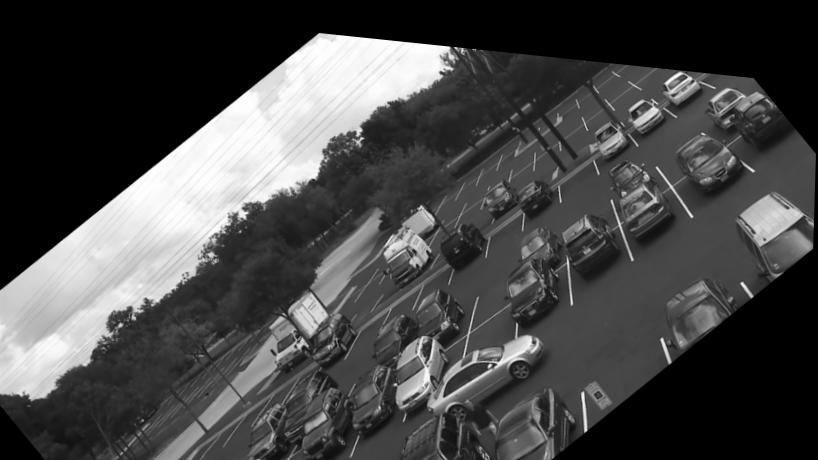empty: (581, 300, 664, 417), (457, 293, 511, 374), (198, 410, 246, 455), (648, 107, 696, 150), (558, 144, 601, 192), (349, 305, 387, 348), (231, 396, 267, 438), (384, 277, 422, 315), (490, 203, 521, 244), (480, 257, 505, 306), (571, 180, 605, 212), (359, 255, 389, 290), (608, 71, 644, 100), (265, 372, 297, 404), (419, 258, 449, 289), (561, 108, 589, 140), (585, 90, 615, 119), (633, 53, 667, 78), (339, 352, 368, 381), (533, 130, 559, 161), (456, 189, 483, 217), (579, 84, 609, 109), (535, 118, 560, 147), (601, 65, 631, 89), (574, 70, 600, 97), (432, 207, 457, 235), (647, 54, 672, 79), (559, 100, 582, 126), (511, 136, 534, 162), (591, 57, 619, 78), (463, 173, 487, 197), (440, 189, 463, 214), (511, 148, 534, 172), (625, 52, 653, 71), (489, 152, 510, 177), (500, 126, 518, 155), (558, 84, 579, 108), (438, 178, 459, 200), (479, 147, 496, 173), (699, 58, 728, 73), (459, 163, 477, 186), (283, 443, 306, 460), (466, 202, 490, 215), (533, 156, 551, 170), (612, 50, 632, 62)
occupied: (722, 170, 815, 267), (498, 366, 568, 460), (662, 254, 739, 339), (671, 113, 744, 183), (394, 325, 457, 405), (726, 70, 795, 138), (406, 402, 486, 460), (562, 198, 620, 272), (304, 380, 357, 460), (616, 161, 676, 231), (507, 243, 561, 319), (353, 356, 400, 431), (303, 305, 360, 364), (383, 216, 434, 280), (286, 363, 336, 422), (372, 302, 422, 358), (441, 212, 490, 269), (418, 278, 467, 330), (251, 396, 290, 456), (522, 216, 563, 256), (661, 56, 703, 95), (705, 72, 746, 111), (482, 167, 520, 208), (518, 167, 555, 209), (595, 108, 630, 147), (628, 85, 665, 121), (610, 147, 644, 178)
